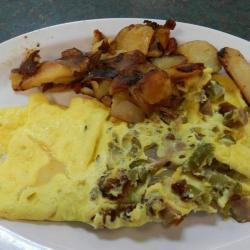omelette: (6, 104, 250, 222)
